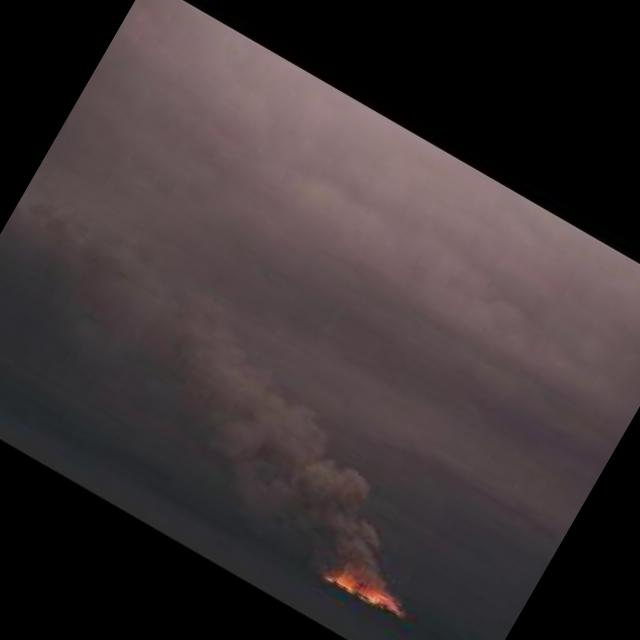fire: (322, 560, 410, 624)
smoke: (173, 328, 437, 580)
